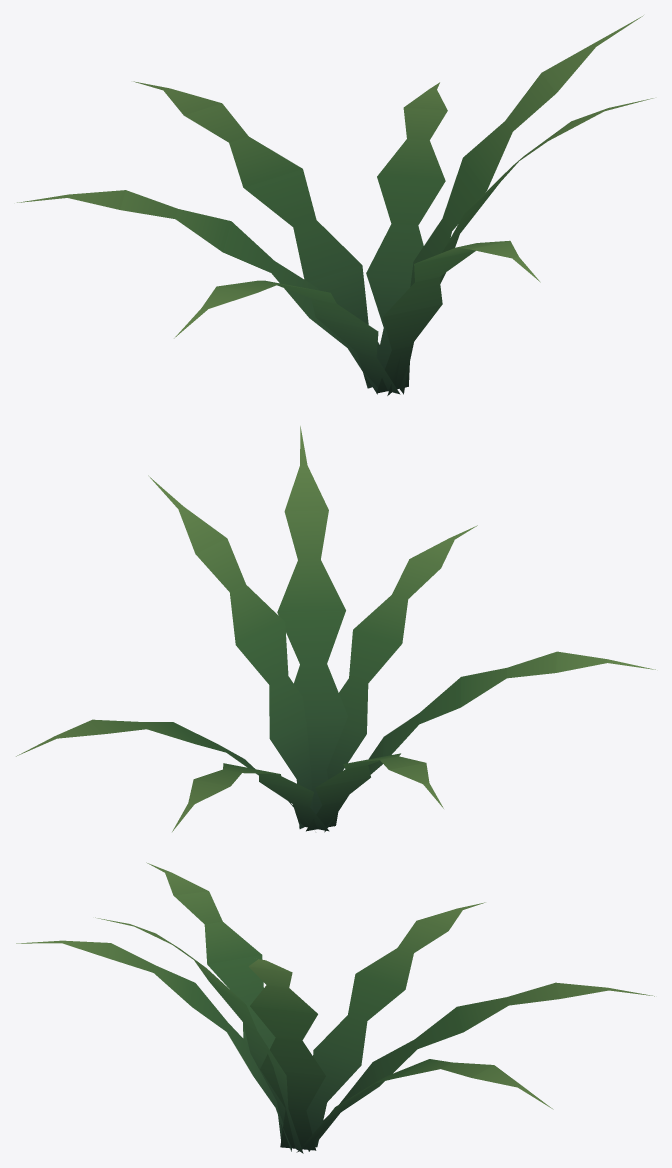
Rendered from fern_wide_01.glb.
3 views of the same model, one above another, from view 1: azimuth 30°, elevation 25°; view 2: azimuth 150°, elevation 25°; view 3: azimuth 270°, elevation 25° (orthographic). The views are drawn at different scales.
Parts seen in each view (by area): view 1: fern_wide_01_mesh; view 2: fern_wide_01_mesh; view 3: fern_wide_01_mesh.
Boxes of the visible parts, bbox=[...] form: fern_wide_01_mesh: bbox=[17, 15, 653, 395]; fern_wide_01_mesh: bbox=[16, 426, 655, 832]; fern_wide_01_mesh: bbox=[16, 862, 654, 1153].
Bounding box in the file's own units: 0.9916 × 0.6094 × 1.24.
